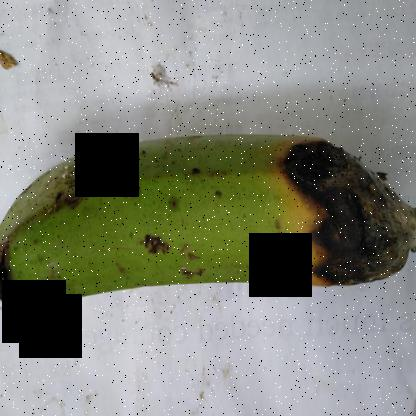rotten: (263, 116, 415, 310), (1, 200, 27, 335)
